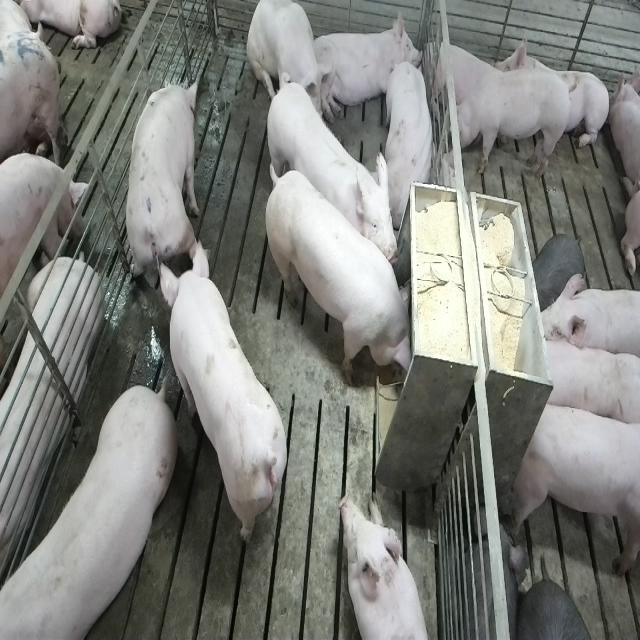Feeding: (269, 163, 422, 390)
Lateral_lying: (0, 148, 100, 592)
Sitting: (246, 1, 332, 132), (382, 60, 437, 220)
Standing: (0, 381, 173, 640), (164, 242, 294, 552), (262, 77, 398, 273), (508, 395, 638, 579), (123, 74, 205, 300), (449, 66, 575, 176), (534, 330, 637, 430), (534, 274, 640, 368)
Sternal_lying: (495, 30, 608, 158), (338, 491, 433, 640), (314, 12, 424, 130), (427, 35, 500, 118)
